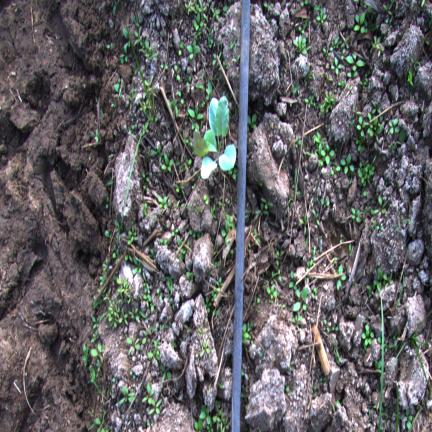crop: (193, 96, 229, 179), (217, 144, 236, 171)
